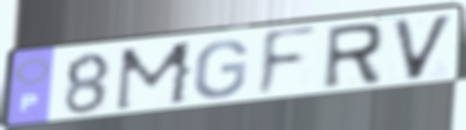8: (61, 52, 113, 117)
F: (254, 23, 320, 102)
G: (191, 38, 251, 101)
M: (111, 39, 198, 115)
R: (320, 20, 386, 93)
V: (389, 12, 457, 84)
